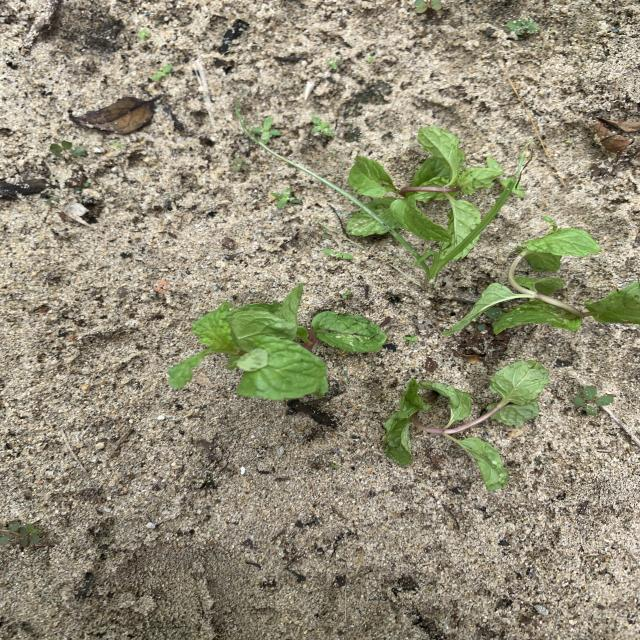crop: (168, 284, 386, 399), (441, 216, 639, 334), (384, 361, 547, 491), (348, 126, 502, 251)
weed: (245, 125, 514, 285), (0, 522, 50, 548), (573, 385, 613, 415), (251, 117, 280, 143), (50, 141, 86, 159), (270, 188, 302, 207), (476, 306, 503, 326), (506, 19, 539, 35), (412, 1, 443, 13), (322, 249, 354, 259), (151, 65, 171, 81), (231, 159, 250, 171), (138, 29, 150, 39), (404, 335, 417, 343), (343, 290, 350, 298)
